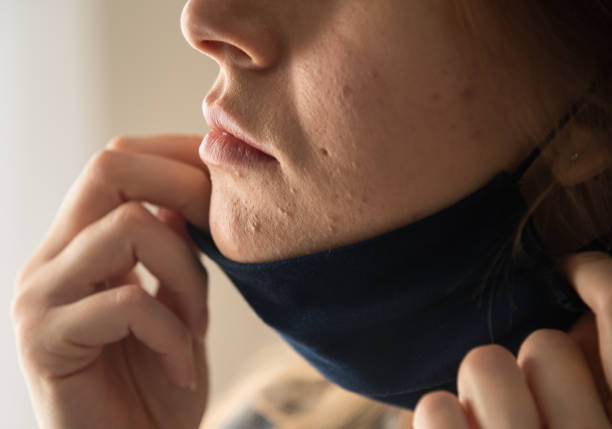with mask: (153, 1, 577, 265)
